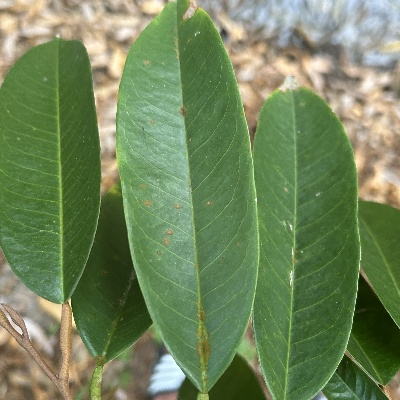Leaf_Algal: (0, 36, 102, 306)
